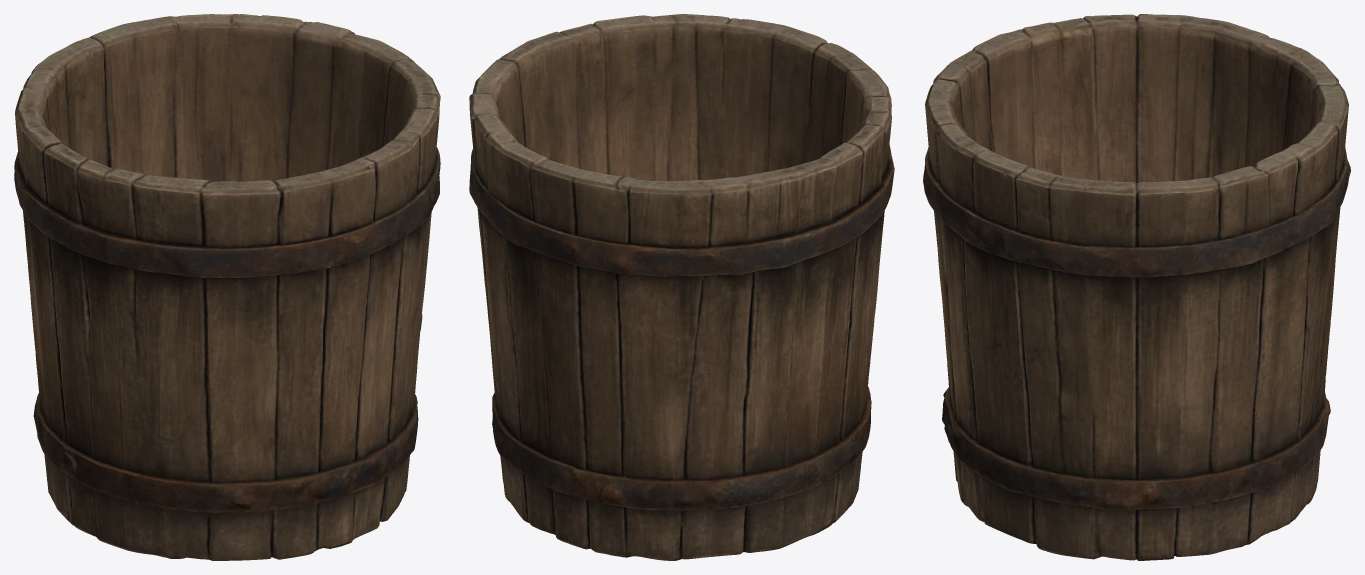
Rendered from 04_zeng.glb.
The picture shows the model from 3 angles, left to right: view 1: azimuth 30°, elevation 25°; view 2: azimuth 150°, elevation 25°; view 3: azimuth 270°, elevation 25°; orthographic projection.
Visible parts, largest first — view 1: geometry_0; view 2: geometry_0; view 3: geometry_0.
Part boxes in pixels (x1,y1,x2,y2): geometry_0: (14,14,440,560); geometry_0: (469,14,894,560); geometry_0: (923,14,1350,560).
Bounding box in the file's own units: 0.4001 × 0.4 × 0.4.
1 material, 1 textured.
